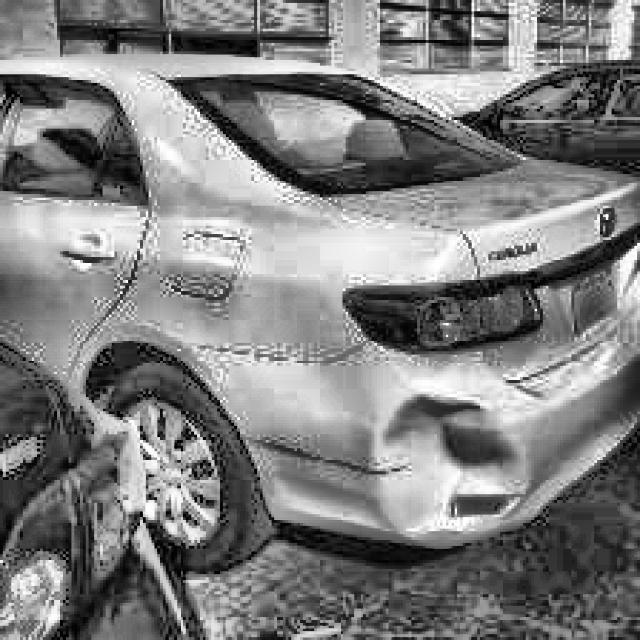bumper_dent: (370, 399, 524, 544)
